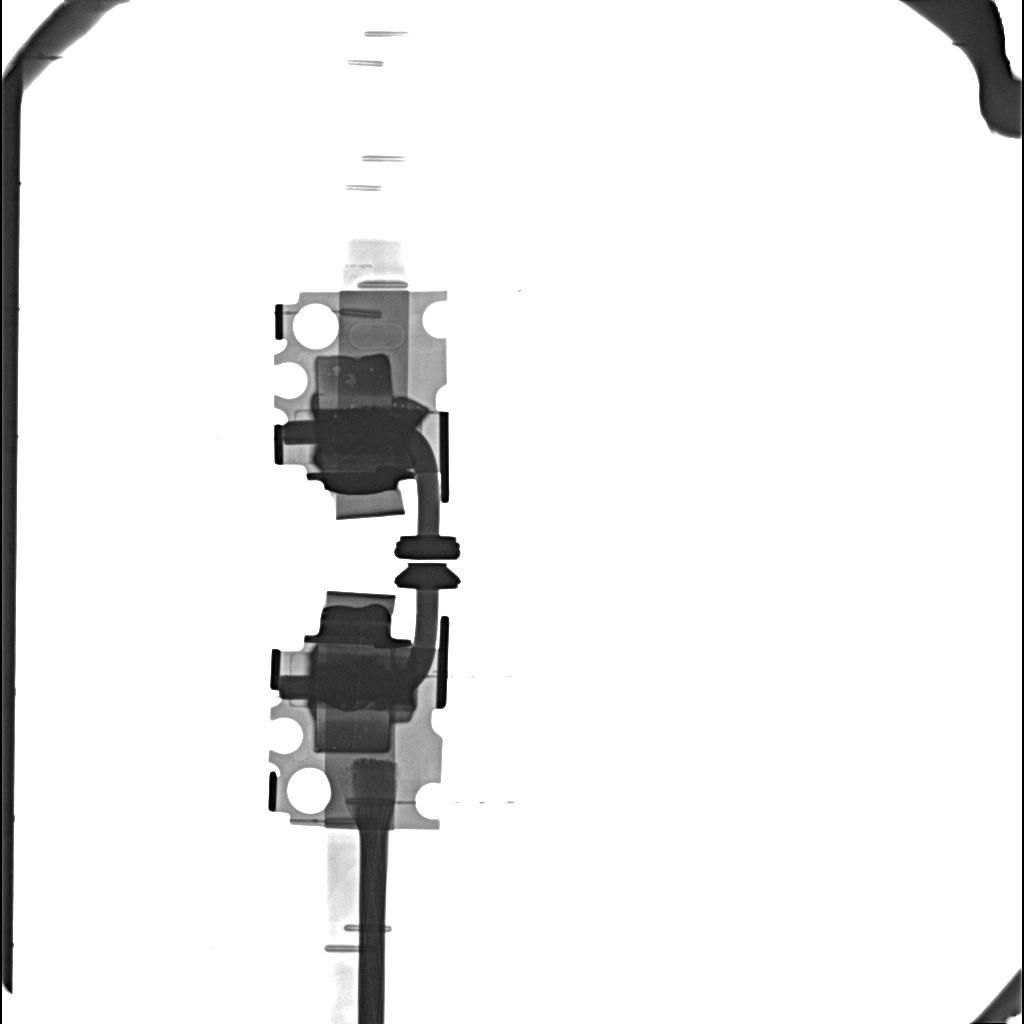defect: (316, 408, 415, 454), (313, 665, 418, 707), (314, 352, 394, 406), (314, 704, 391, 753)
